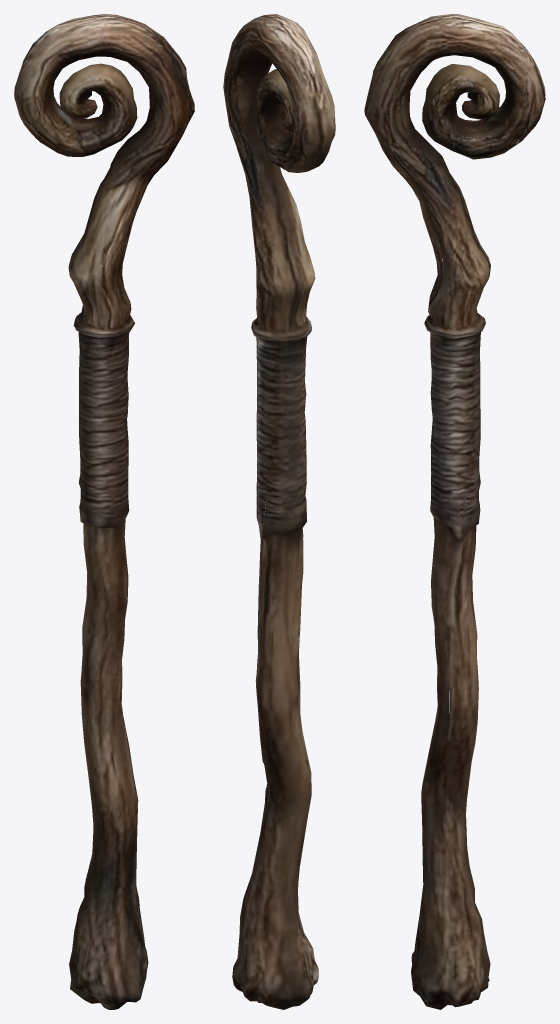
Rendered from gnarled_crook.glb.
3 renders of one model, left to right at view 1: azimuth 90°, elevation 25°; view 2: azimuth 210°, elevation 25°; view 3: azimuth 270°, elevation 25°, orthographic.
Parts seen in each view (by area): view 1: gnarled_crook; view 2: gnarled_crook; view 3: gnarled_crook.
Part boxes in pixels (x1,y1,x2,y2): gnarled_crook: [14, 14, 194, 1009]; gnarled_crook: [223, 14, 335, 1009]; gnarled_crook: [364, 14, 545, 1009].
Size of the model in its own units: 0.1252 by 1.5 by 0.2488.
Materials: 1 (1 with a texture image).
